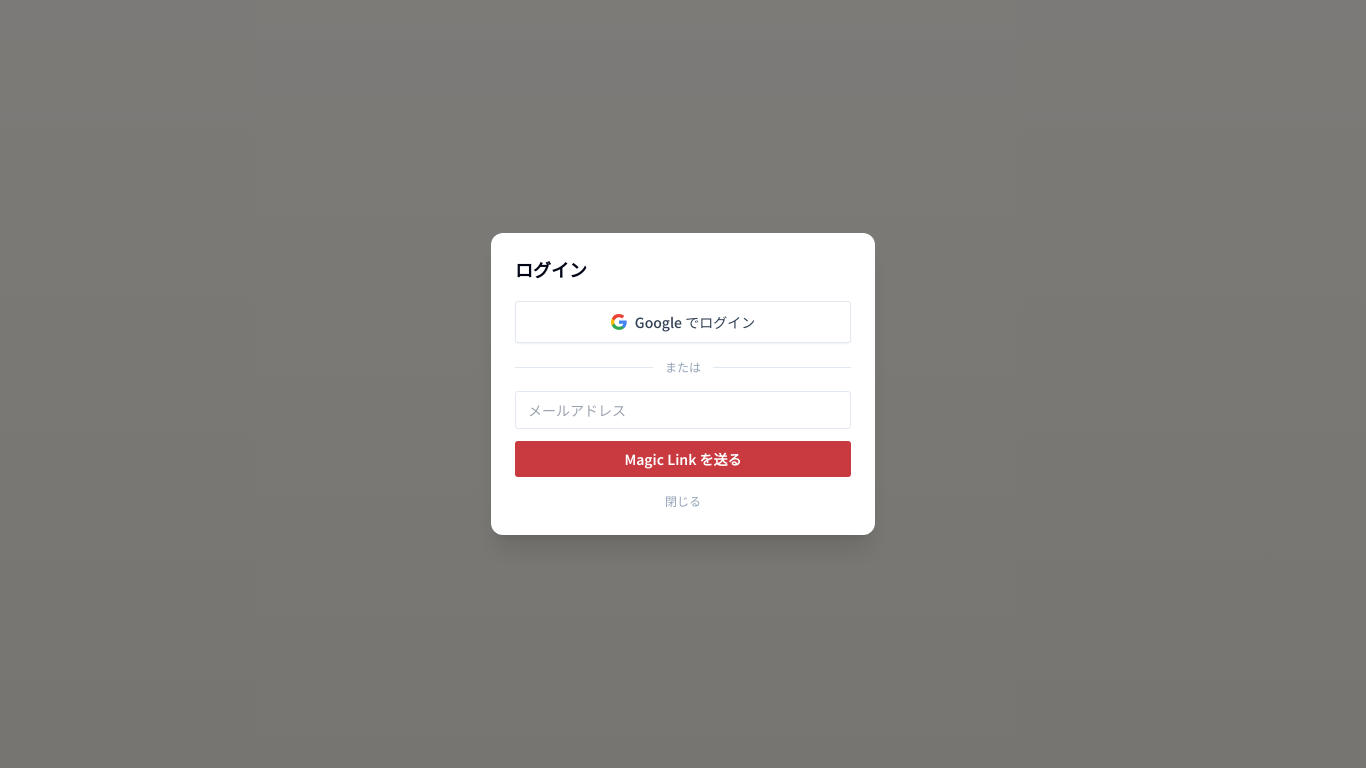
Scenario: AuthModal › shows a specific message for Supabase invalid format errors
Type "user@example.com" into the field with placeholder "メールアドレス" at x=683, y=410, box top-left (515, 391), bottom-right (851, 429)
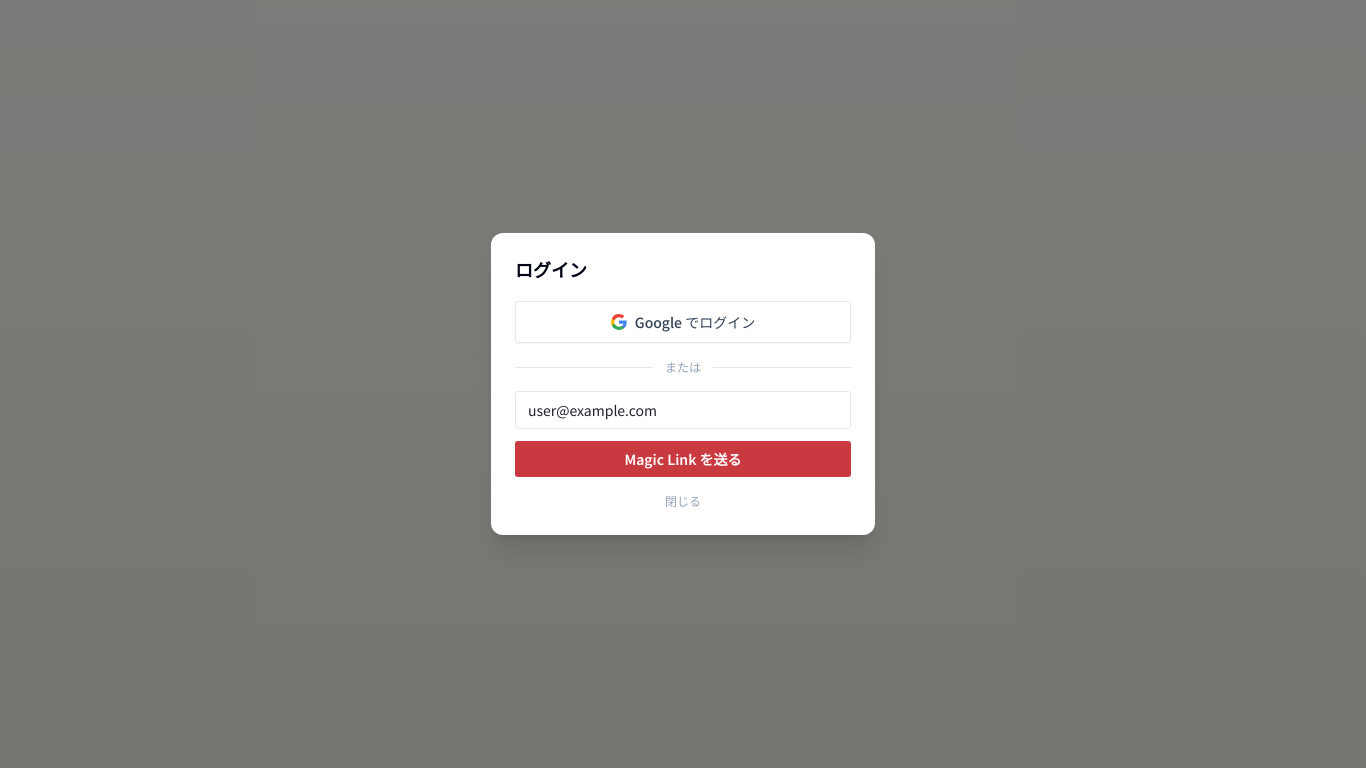
Click the button "Magic Link を送る" at x=683, y=459, box top-left (515, 441), bottom-right (851, 477)
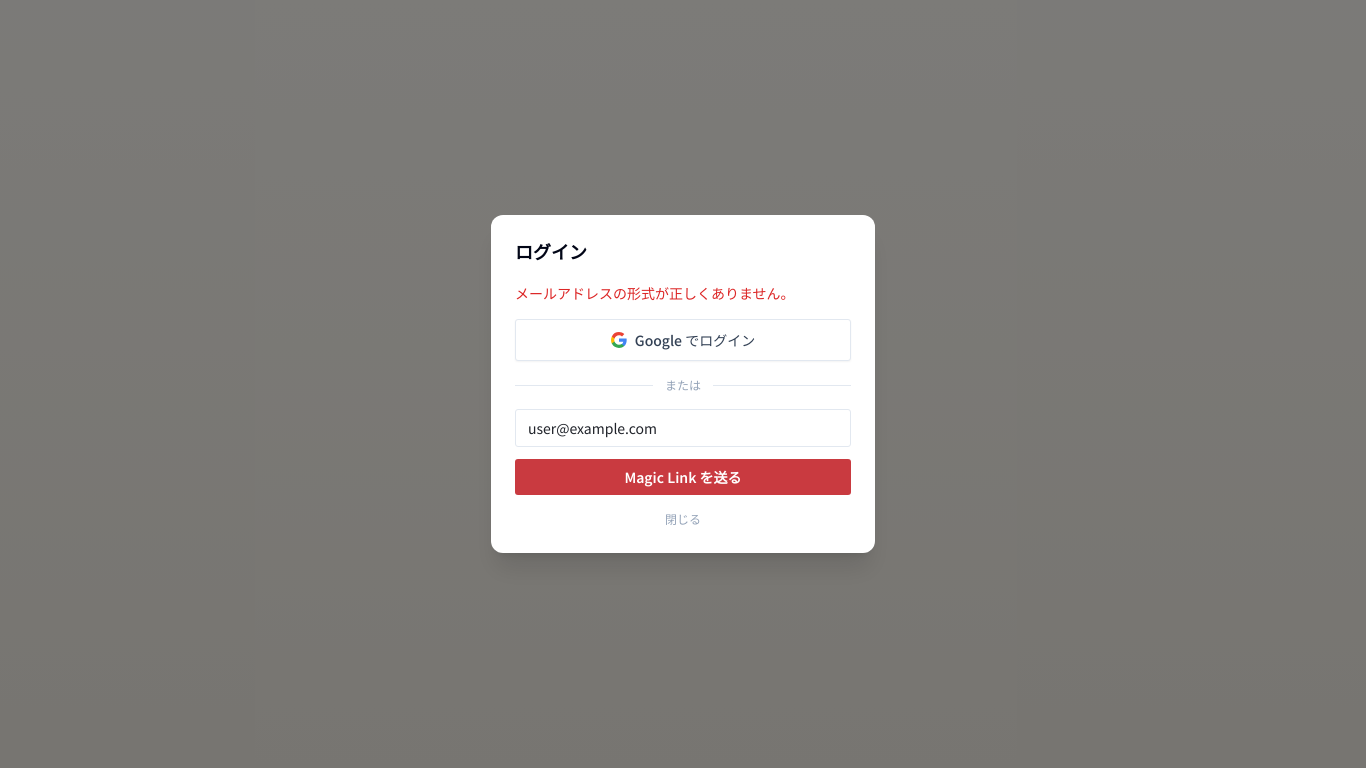
Check: the text "メールアドレスの形式が正しくありません。" is shown, box top-left (515, 283), bottom-right (795, 303)
